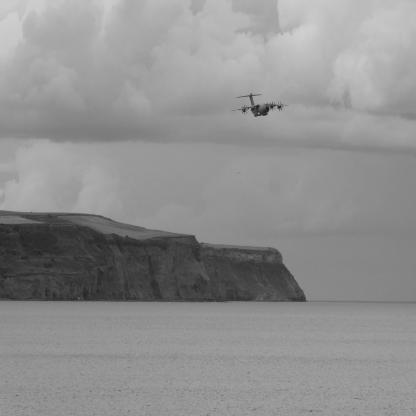A400M: (230, 93, 291, 118)
